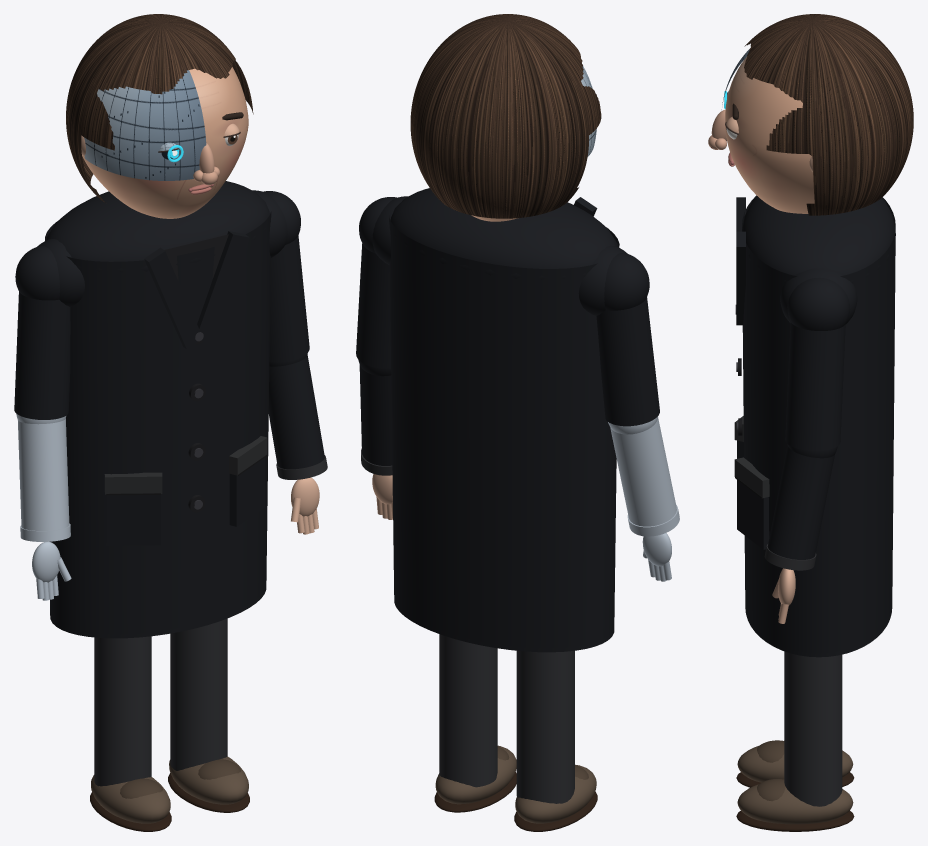
The model's file is profe-nexo.glb.
3 renders of one model, left to right at view 1: azimuth 30°, elevation 25°; view 2: azimuth 150°, elevation 25°; view 3: azimuth 270°, elevation 25°, orthographic.
Visible parts, largest first — view 1: nexo, cabeza, brazo_izq, codo_izq, codo_der, brazo_der; view 2: nexo, cabeza, brazo_izq, codo_izq, brazo_der, codo_der; view 3: nexo, cabeza, brazo_der, codo_der.
Boxes of the visible parts, x1,y1,x2,y2 form: nexo: [37, 181, 287, 831]; cabeza: [66, 14, 253, 218]; brazo_izq: [14, 246, 70, 419]; codo_izq: [16, 414, 71, 600]; codo_der: [268, 353, 327, 534]; brazo_der: [264, 191, 309, 362]; nexo: [372, 188, 627, 831]; cabeza: [410, 14, 601, 221]; brazo_izq: [596, 253, 659, 426]; codo_izq: [608, 416, 679, 581]; brazo_der: [356, 197, 396, 368]; codo_der: [358, 360, 392, 519]; nexo: [734, 195, 895, 831]; cabeza: [708, 14, 913, 215]; brazo_der: [785, 277, 850, 450]; codo_der: [764, 444, 837, 623].
Bounding box in the file's own units: 1.28 × 3.13 × 0.7455.
49 materials, 3 textured.
